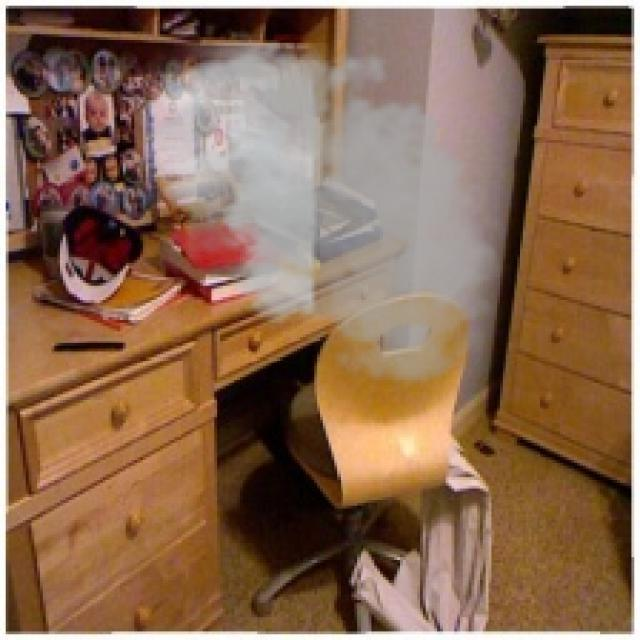Smoke: (135, 29, 514, 392)
